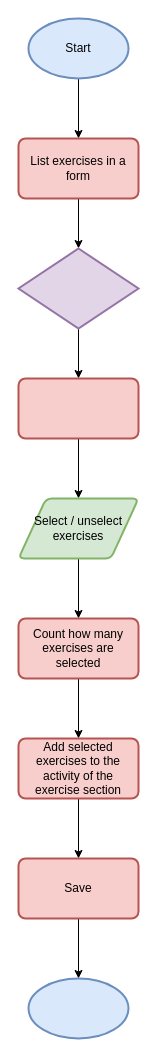
This 156x1056 diagram has some shape labels left out. The shapes that lost their labels are listed below. From the top down, each one's centre as x and y in pixels, then its label:
[78,288]: Has the exercise been added?
[78,408]: List on the top of the list as "Recent"
[78,1008]: End
